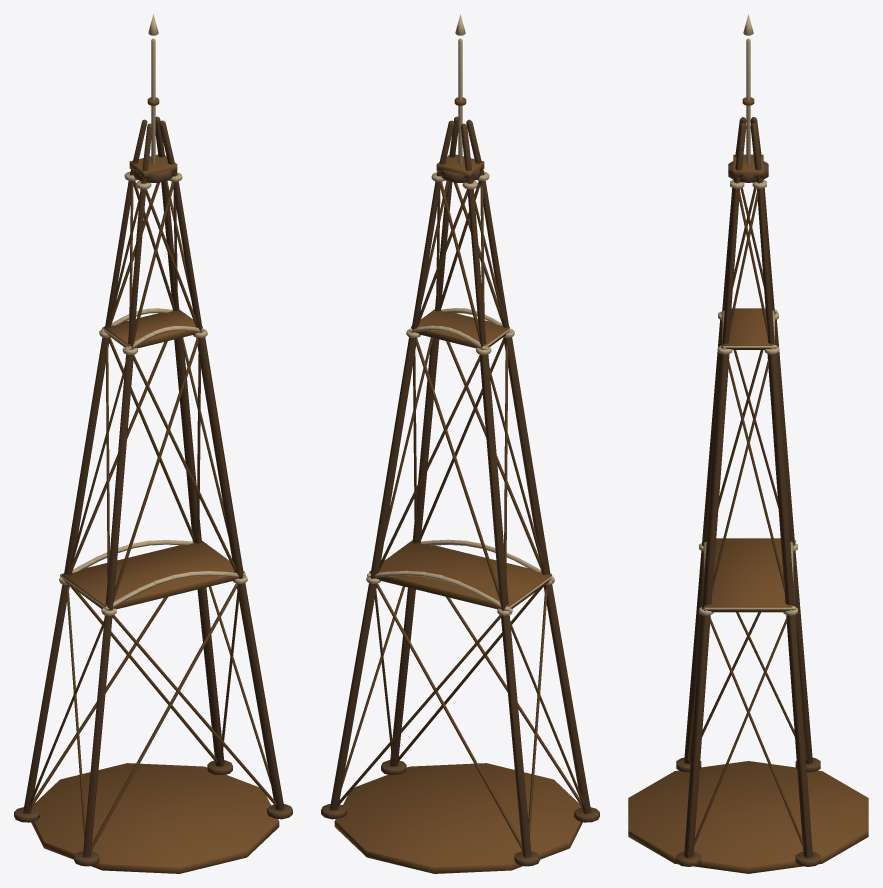
The model's file is eiffel_tower.glb.
3 renders of one model, left to right at view 1: azimuth 30°, elevation 25°; view 2: azimuth 150°, elevation 25°; view 3: azimuth 270°, elevation 25°, orthographic.
Visible parts, largest first — view 1: eiffel_tower; view 2: eiffel_tower; view 3: eiffel_tower.
Boxes of the visible parts, left/top/right/bottom form: eiffel_tower: left=14, top=14, right=292, bottom=873; eiffel_tower: left=321, top=14, right=599, bottom=873; eiffel_tower: left=628, top=14, right=868, bottom=873.
Bounding box in the file's own units: 9.3 × 32.78 × 8.84.
